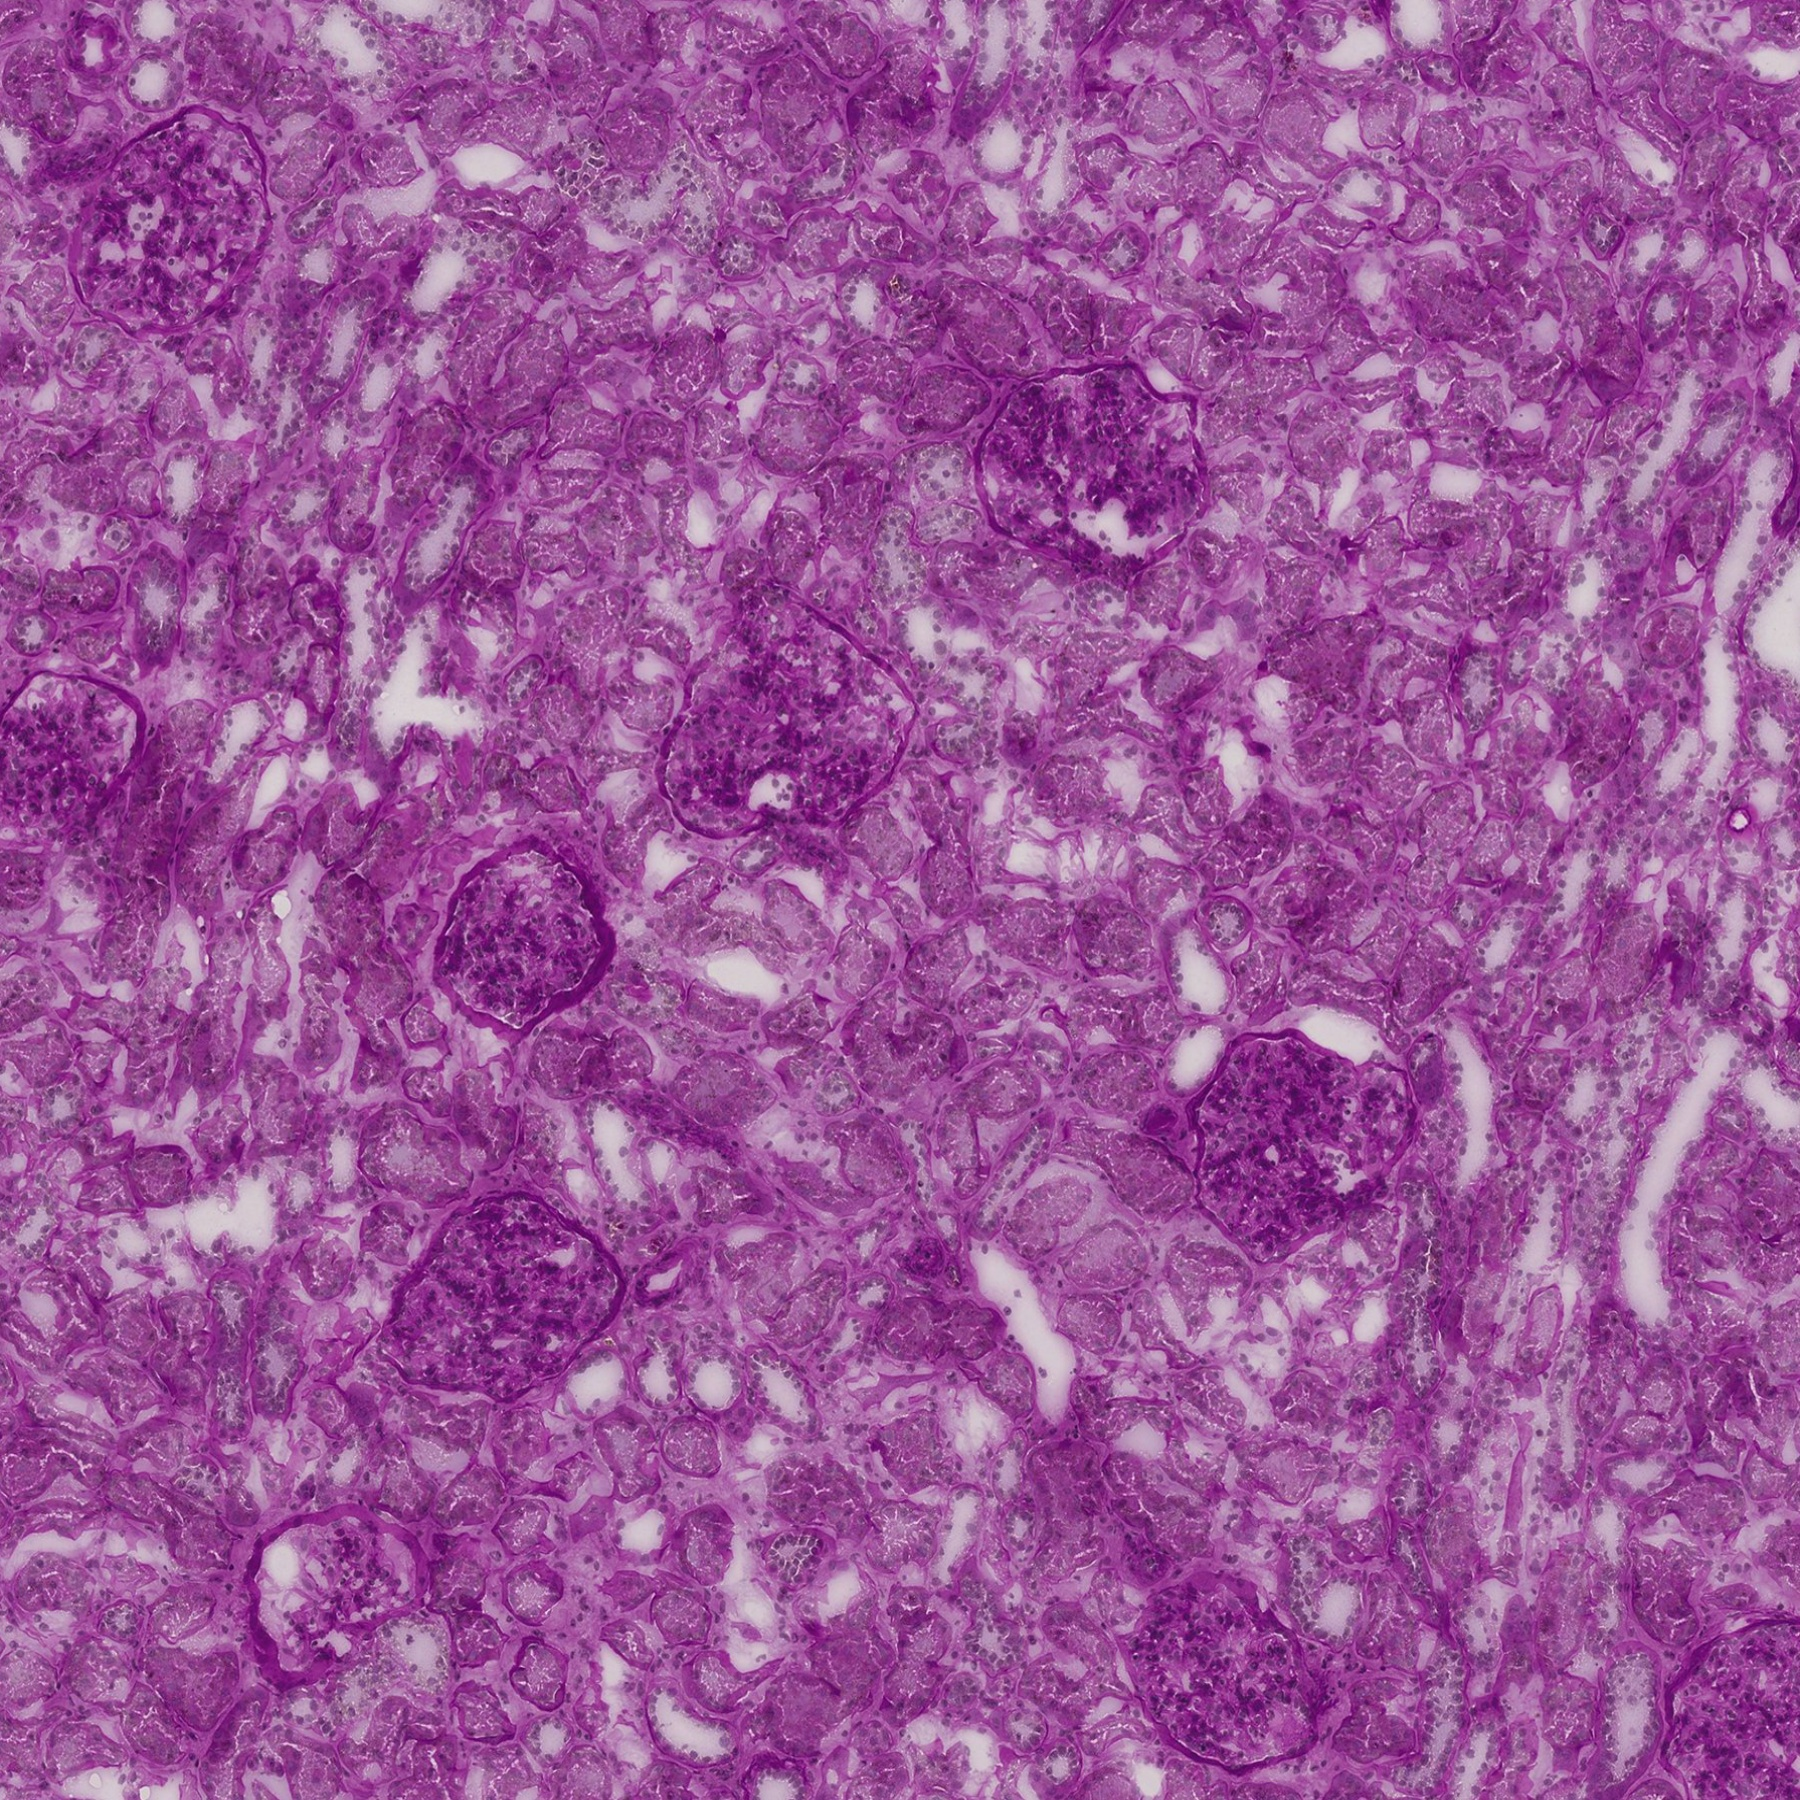Glomeruli: (656, 580, 921, 842), (1180, 1025, 1424, 1269), (369, 1188, 630, 1404), (976, 349, 1213, 569), (66, 105, 275, 348), (1132, 1573, 1330, 1770), (434, 834, 618, 1038), (236, 1500, 437, 1686), (1658, 1615, 1797, 1800), (2, 668, 153, 809)
